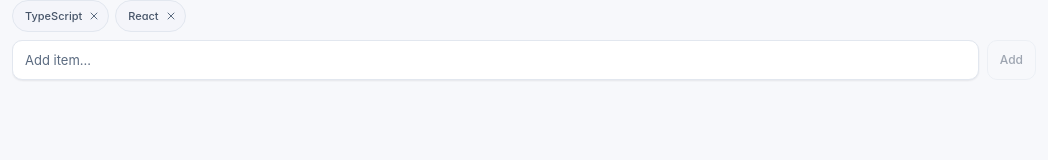
it: ChipListEditor › removes an existing chip
The width and height of the screenshot is (1048, 160).
Click the button named "Remove TypeScript": (94, 16) x1=86 y1=8 x2=102 y2=24
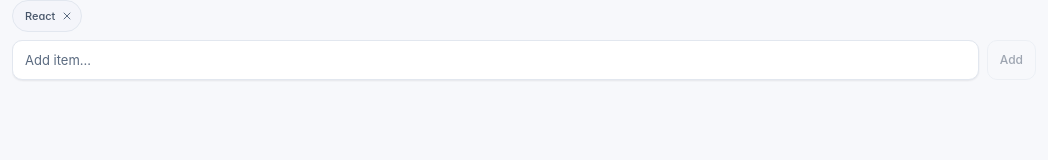
Expected: the text "React" is shown, x1=25 y1=8 x2=55 y2=24
Expected: the text "TypeScript" is gone
